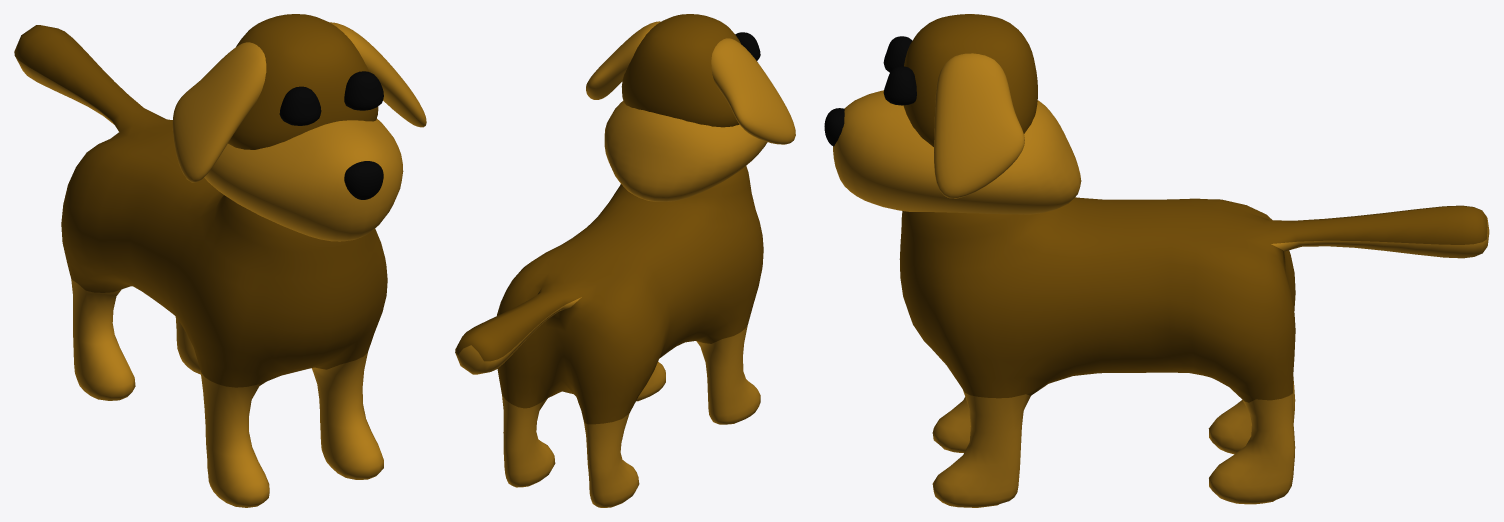
The model's file is Dog.obj.
The picture shows the model from 3 angles, left to right: view 1: azimuth 30°, elevation 25°; view 2: azimuth 150°, elevation 25°; view 3: azimuth 270°, elevation 25°; orthographic projection. The views are drawn at different scales.
Visible parts, largest first — view 1: Dog_RetopoFlow.001, Eyes_Dog_Cube.037; view 2: Dog_RetopoFlow.001; view 3: Dog_RetopoFlow.001, Eyes_Dog_Cube.037.
Part boxes in pixels (bbox=[...]): Dog_RetopoFlow.001: bbox=[14, 14, 426, 507]; Eyes_Dog_Cube.037: bbox=[279, 71, 383, 125]; Dog_RetopoFlow.001: bbox=[455, 14, 795, 507]; Dog_RetopoFlow.001: bbox=[824, 14, 1489, 507]; Eyes_Dog_Cube.037: bbox=[883, 36, 916, 105].
Size of the model in its own units: 0.5267 by 0.9837 by 1.31.
